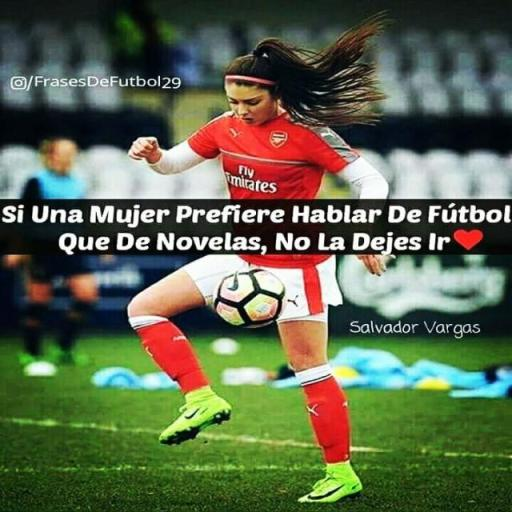Emirates: (222, 162, 280, 197)
